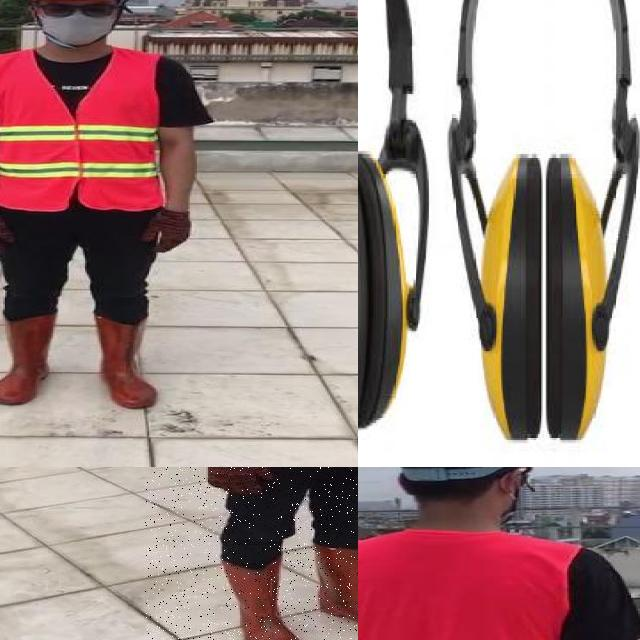Ear-protection: (456, 0, 640, 441), (358, 0, 431, 423)
boots: (220, 555, 308, 640), (90, 315, 160, 408), (0, 313, 60, 405), (316, 544, 358, 638)
face_mask: (35, 0, 119, 46)
glasses: (35, 0, 118, 23)
hand_glove: (146, 210, 193, 253), (0, 213, 17, 255)
person: (0, 0, 212, 412), (358, 467, 640, 640), (145, 467, 358, 640)
vest: (0, 47, 161, 212), (358, 530, 574, 640)
